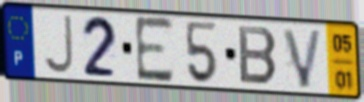2: (80, 13, 121, 82)
5: (183, 18, 221, 86)
B: (236, 23, 280, 88)
E: (132, 14, 176, 85)
J: (41, 13, 76, 76)
V: (280, 26, 326, 91)
